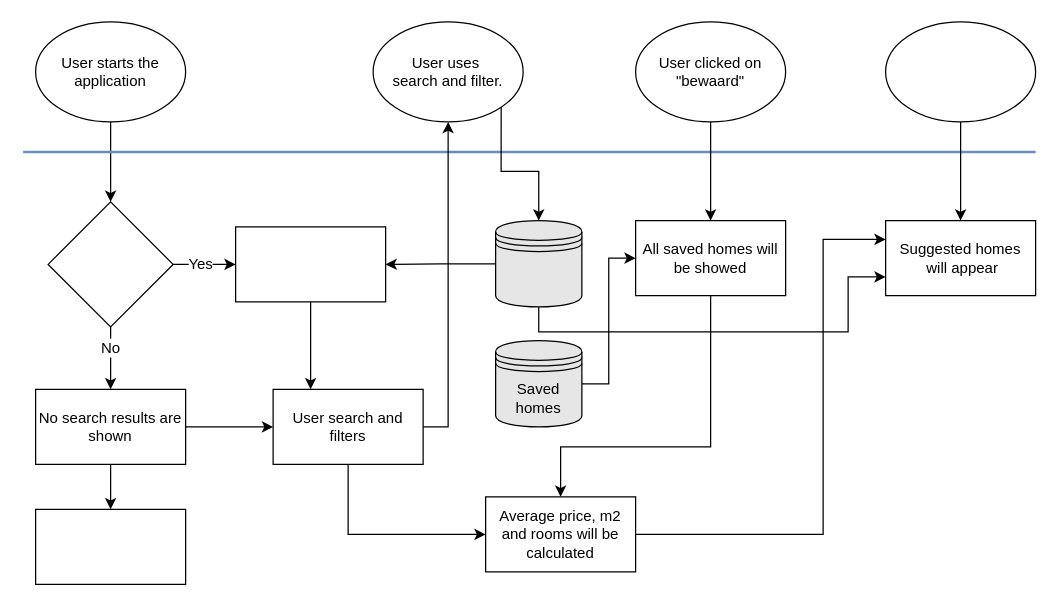
The diagram is 1058 pixels wide and 606 high, and some of its shapes have lost their labels. Here are the shapes that lost their labels. From the top down, the centre of each, then its label:
pixel 960 71: User clicked on "suggesties"
pixel 110 264: Check if user already visited
pixel 310 264: Search, filters and results from previous session will load
pixel 538 263: Search and filter stored
pixel 110 546: Suggesties disabled
